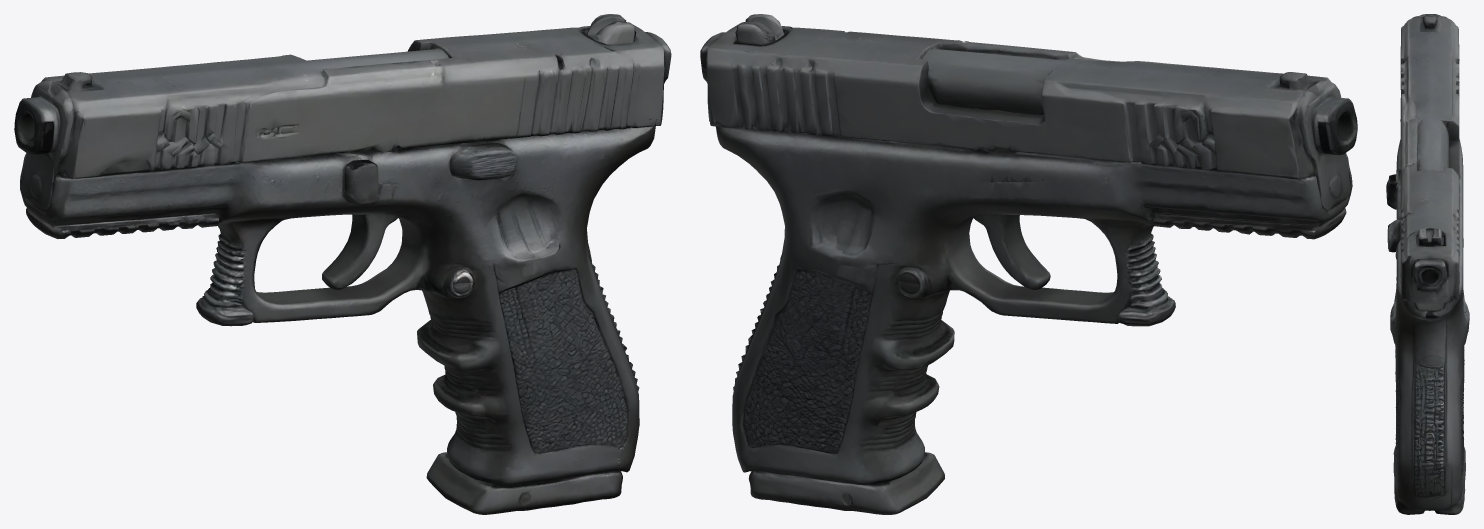
Rendered from rn_polymer19.glb.
3 renders of one model, left to right at view 1: azimuth 30°, elevation 25°; view 2: azimuth 150°, elevation 25°; view 3: azimuth 270°, elevation 25°, orthographic. The views are drawn at different scales.
Visible parts, largest first — view 1: tripo_node_0a1d4176-21b1-4c44-87a3-20542169e0f9; view 2: tripo_node_0a1d4176-21b1-4c44-87a3-20542169e0f9; view 3: tripo_node_0a1d4176-21b1-4c44-87a3-20542169e0f9.
Boxes of the visible parts, left/top/right/bottom form: tripo_node_0a1d4176-21b1-4c44-87a3-20542169e0f9: left=14, top=14, right=671, bottom=514; tripo_node_0a1d4176-21b1-4c44-87a3-20542169e0f9: left=700, top=14, right=1357, bottom=514; tripo_node_0a1d4176-21b1-4c44-87a3-20542169e0f9: left=1386, top=14, right=1469, bottom=514.
Size of the model in its own units: 0.9821 by 0.783 by 0.1756.
Materials: 1 (1 with a texture image).
